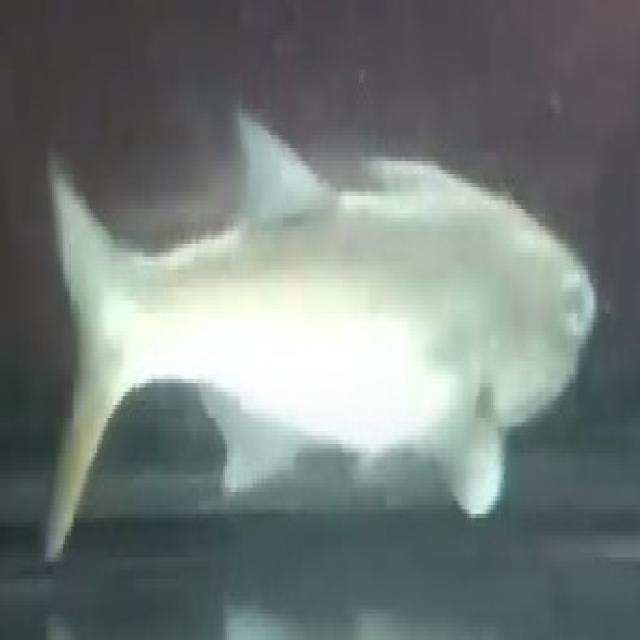Fourfinger-Threadfin: (41, 109, 620, 597)
